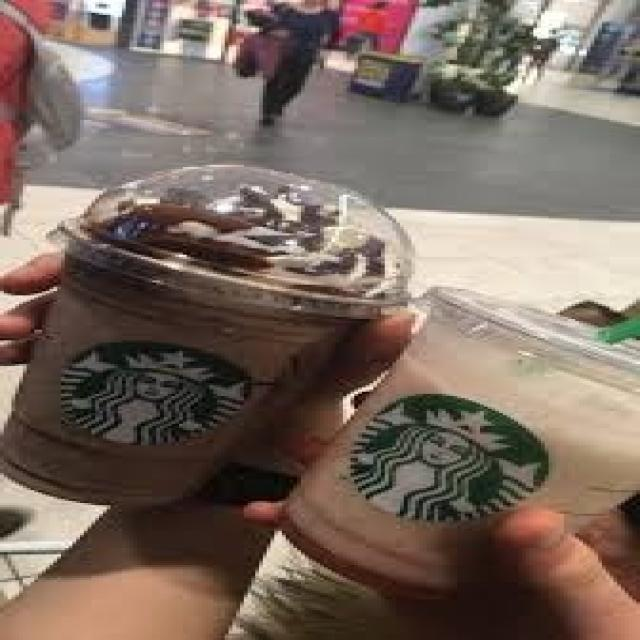starbucks: (334, 389, 564, 528), (43, 333, 278, 457)
